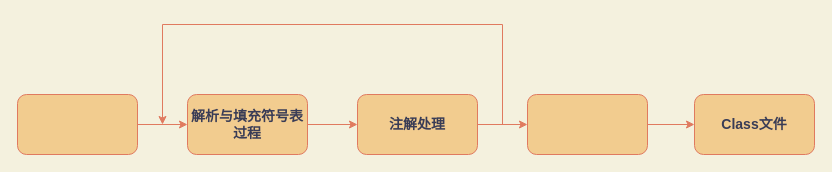
Image size: 832x172. Some labels were removed from this diagram. The shapes that lost their labels are listed below. From the top down, each one's centre as x and y in pixels, then its label:
At point 77,124: "Java源码".
At point 587,124: "分析与字节码生成".
